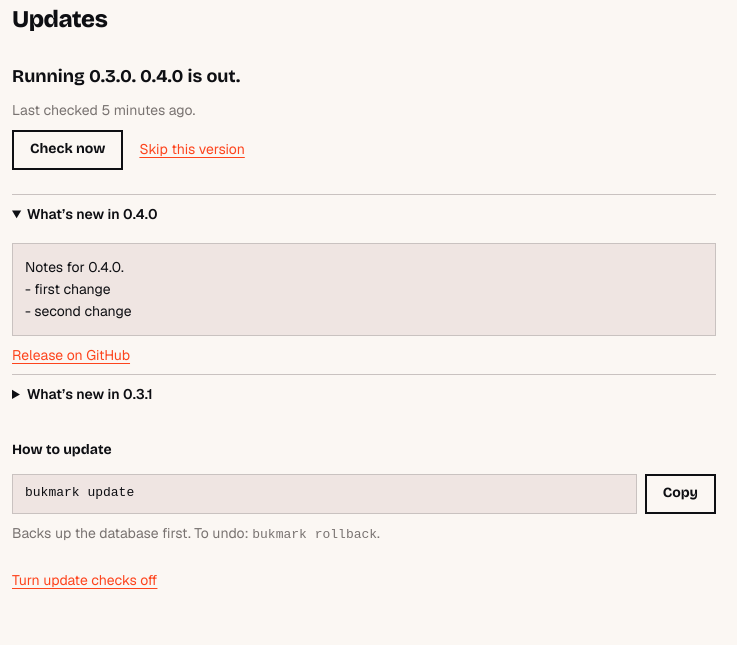
Test: UpdatesSection › says so when the clipboard refuses
What coordinates should you click on to do the following:
click the button with aria-label "Copy bukmark update"
I would click on:
 (680, 494)
Its box is [645,474,716,514].
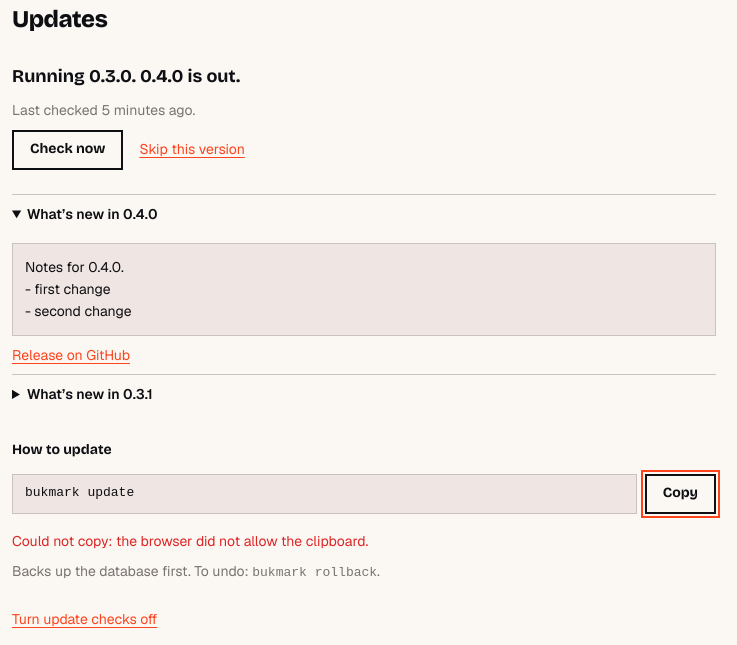
Expected: the message shows "Could not copy", [12,532,368,550]
